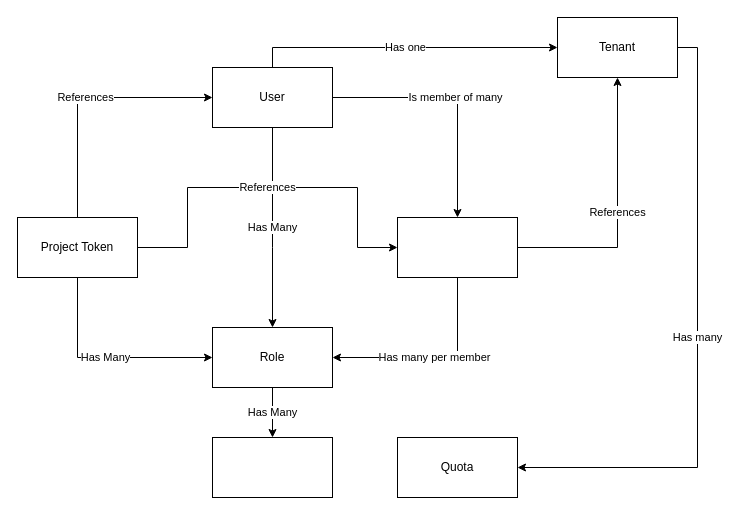
The diagram is 740 pixels wide and 515 high, and some of its shapes have lost their labels. Here are the shapes that lost their labels. From the top down, the box of each, then its label:
(396, 216, 518, 278): Project
(212, 436, 332, 498): Permission
